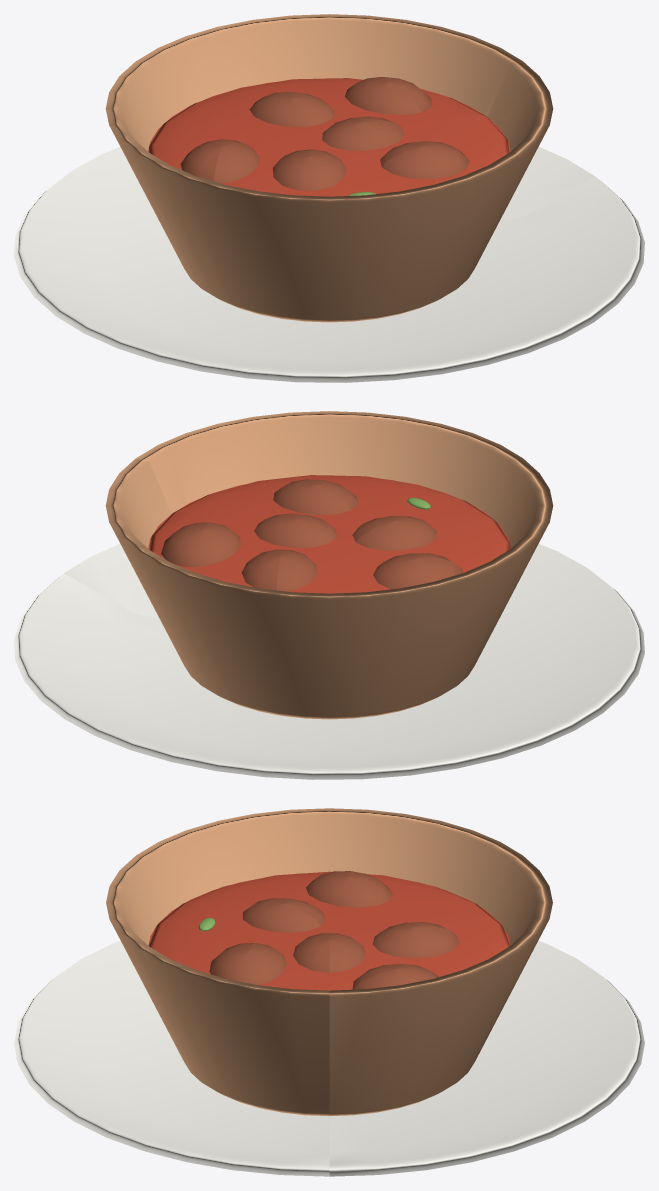
Rendered from rogan-josh.glb.
3 views of the same model, one above another, from view 1: azimuth 30°, elevation 25°; view 2: azimuth 150°, elevation 25°; view 3: azimuth 270°, elevation 25° (orthographic).
Visible parts, largest first — view 1: rogan-josh; view 2: rogan-josh; view 3: rogan-josh.
Part boxes in pixels (x1,y1,x2,y2): rogan-josh: (14,14,644,382); rogan-josh: (14,411,644,779); rogan-josh: (14,808,644,1176).
Bounding box in the file's own units: 0.24 × 0.071 × 0.24.
